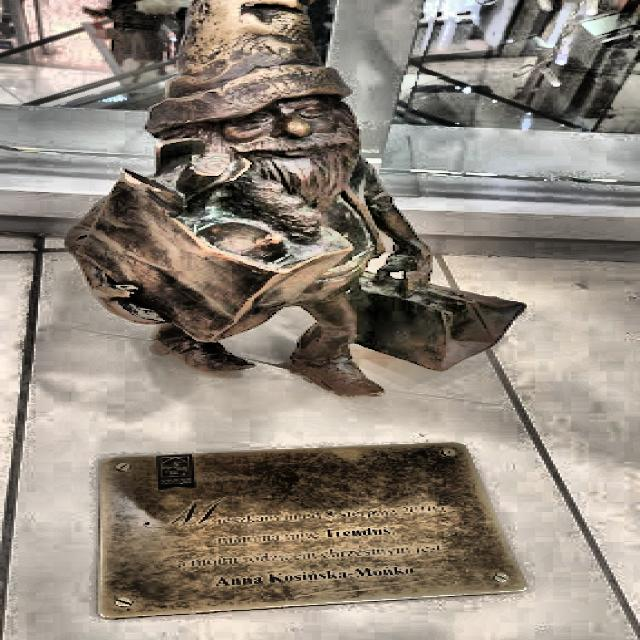Trendus: (67, 0, 524, 395)
